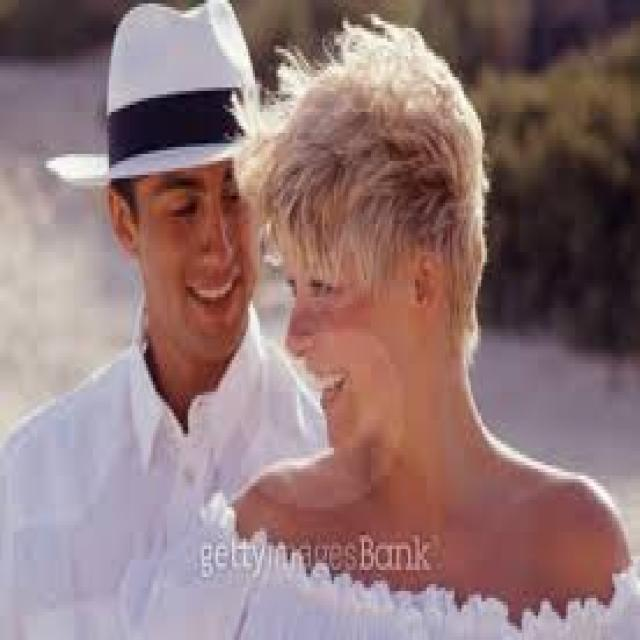hat: (56, 4, 276, 360)
head: (262, 60, 485, 451)
